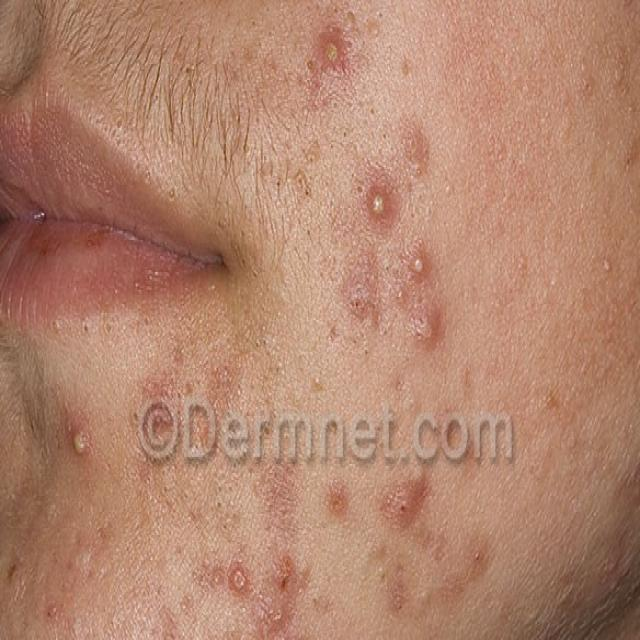Acne: (275, 16, 478, 356), (340, 454, 521, 623), (155, 510, 326, 640), (0, 563, 113, 640), (51, 416, 110, 480)
